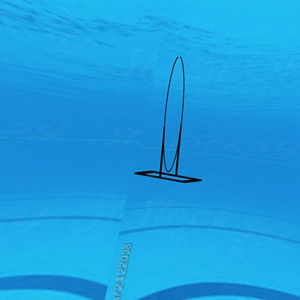circle: (132, 53, 203, 189)
